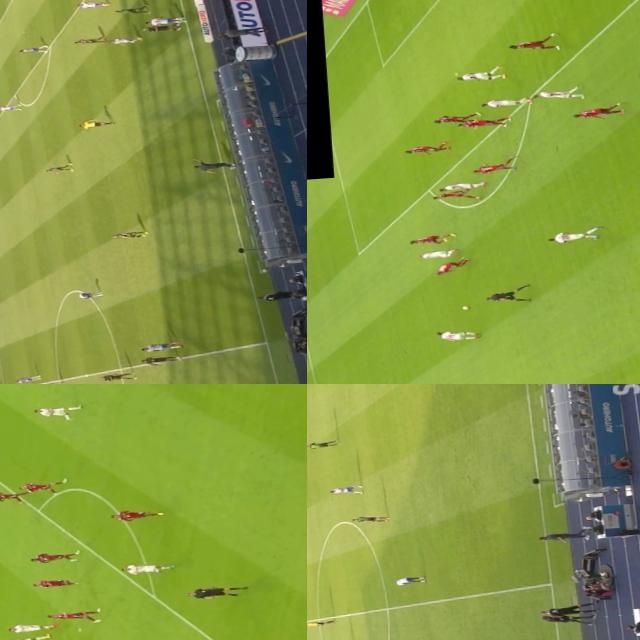player: (120, 558, 180, 579), (546, 224, 606, 244), (502, 32, 561, 52), (108, 504, 164, 524), (468, 154, 518, 176), (570, 102, 624, 122), (398, 138, 451, 158), (404, 228, 456, 248), (426, 108, 482, 126), (428, 185, 485, 202), (458, 112, 511, 130), (478, 92, 528, 111), (449, 66, 508, 82), (4, 620, 55, 638), (528, 86, 585, 102), (29, 549, 86, 565), (429, 253, 472, 274), (46, 606, 100, 622), (433, 326, 482, 342), (26, 404, 77, 419), (20, 476, 70, 490), (31, 576, 78, 590), (138, 21, 185, 34), (138, 352, 180, 366), (414, 246, 456, 260), (144, 13, 192, 24), (438, 180, 483, 191), (0, 487, 29, 503), (111, 4, 149, 16), (136, 340, 176, 351), (108, 34, 142, 46), (0, 632, 50, 640), (108, 230, 146, 240), (72, 34, 106, 45), (97, 370, 133, 380), (43, 161, 72, 173), (330, 482, 364, 492), (392, 575, 426, 585), (16, 44, 52, 53), (12, 373, 42, 383), (75, 288, 102, 299), (307, 438, 335, 448), (351, 515, 386, 523), (76, 0, 108, 7), (0, 102, 21, 112), (38, 379, 67, 384)
